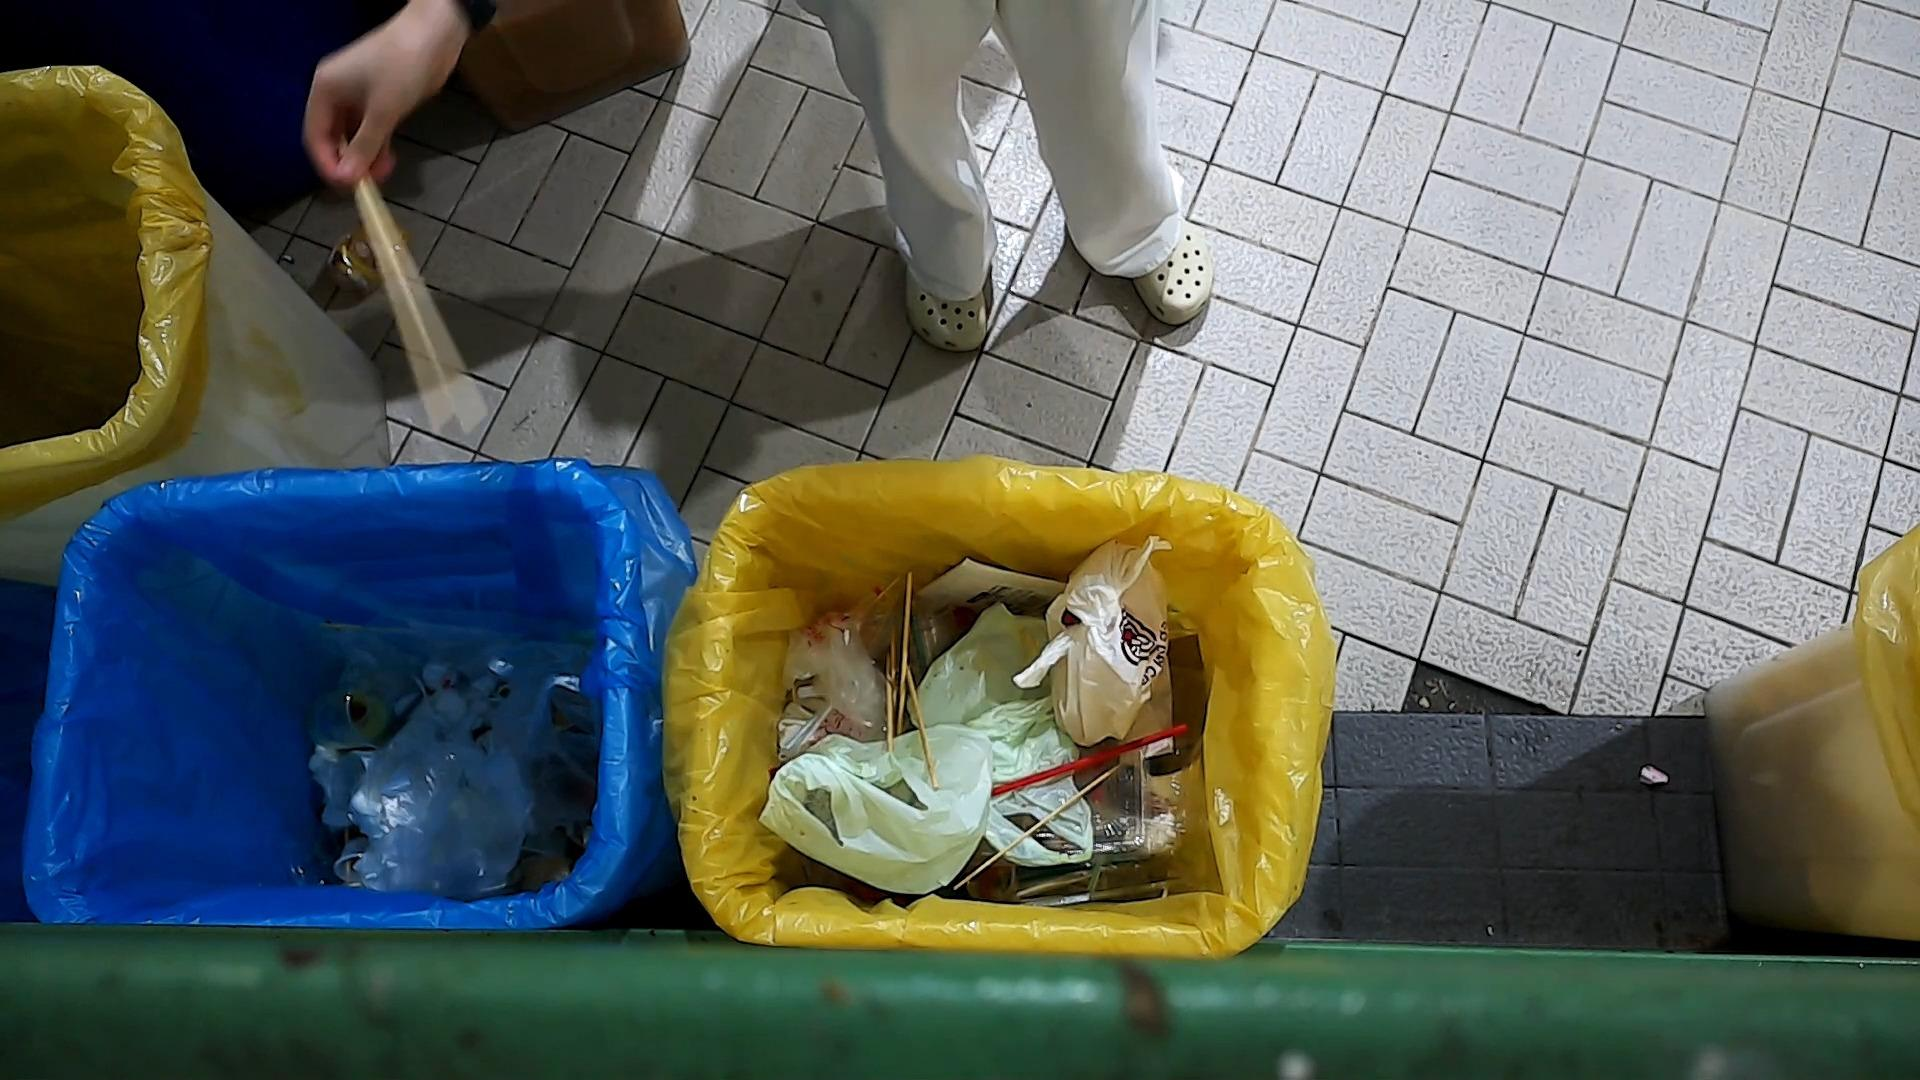filled plastic bag: (753, 721, 998, 897), (1009, 530, 1176, 749)
plastic bag: (344, 654, 564, 906), (914, 597, 1100, 869), (775, 597, 885, 748)
plastic cup: (301, 658, 430, 757)
sticks: (336, 138, 497, 446), (951, 764, 1124, 893), (906, 662, 943, 794), (895, 570, 914, 742), (885, 632, 897, 754)
straw: (988, 721, 1193, 798)
